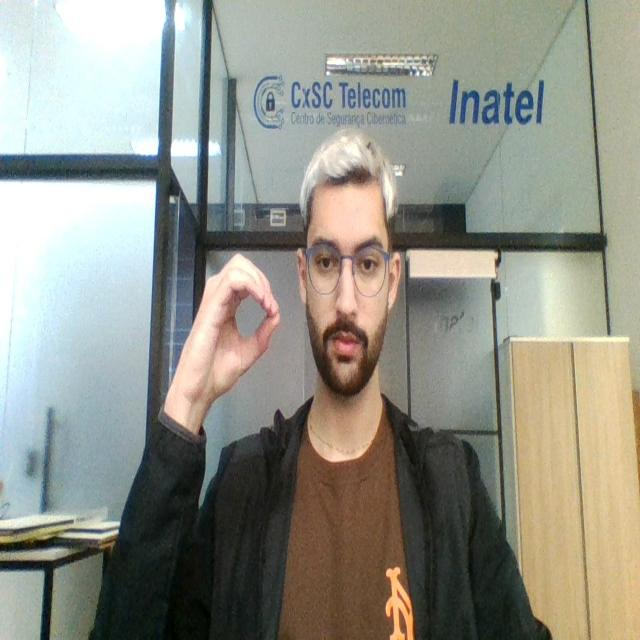O: (185, 252, 282, 400)
